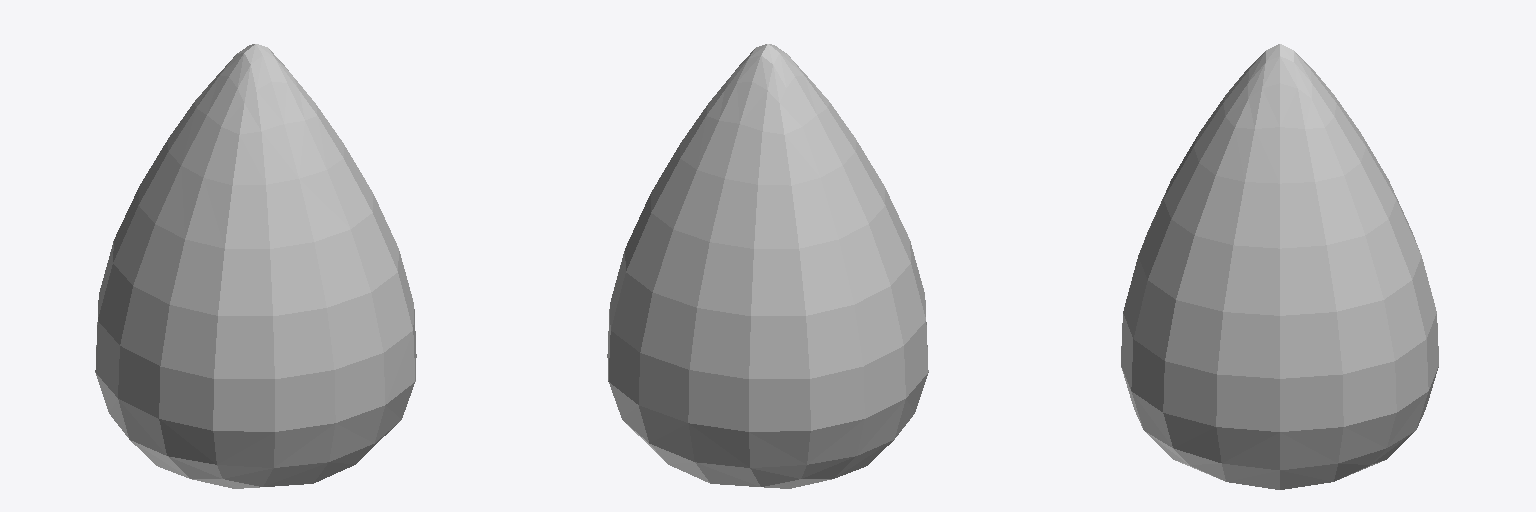
Rendered from light-drop.obj.
3 views of the same model, side by side, from view 1: azimuth 30°, elevation 25°; view 2: azimuth 150°, elevation 25°; view 3: azimuth 270°, elevation 25° (orthographic).
Parts seen in each view (by area): view 1: Cube.006_Cube.087; view 2: Cube.006_Cube.087; view 3: Cube.006_Cube.087.
Part boxes in pixels (x1,y1,x2,y2): Cube.006_Cube.087: (95,44,416,488); Cube.006_Cube.087: (607,44,928,488); Cube.006_Cube.087: (1121,44,1438,489).
Bounding box in the file's own units: 0.1788 × 0.263 × 0.1788.